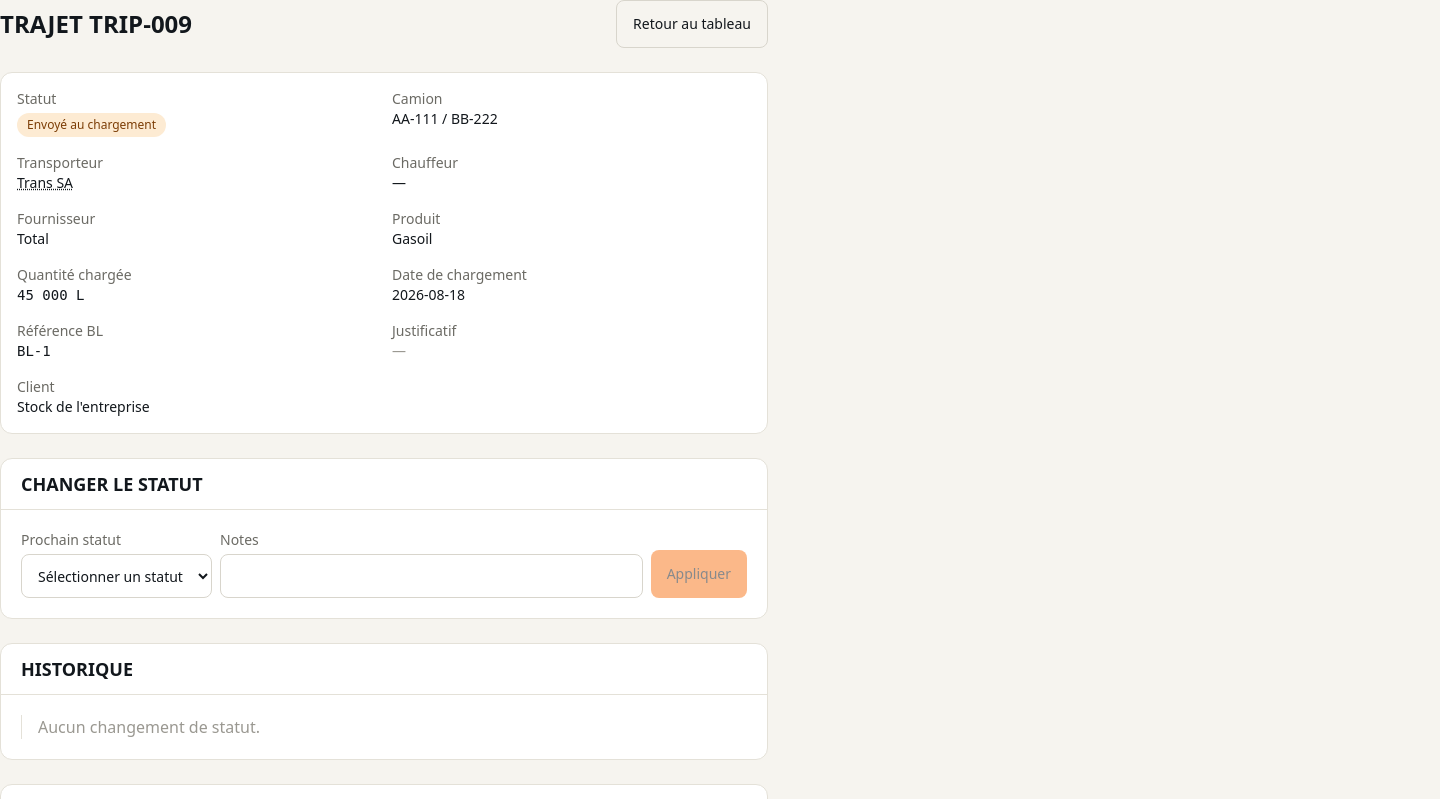
Test case: TripDetail expenses section › opens a prefilled per-litre loading expense popup after SENT_FOR_LOADING -> LOADING
Select "Chargement en cours" in the dropdown with id "next_status". click: (116, 576)
box: [21,554,212,598]
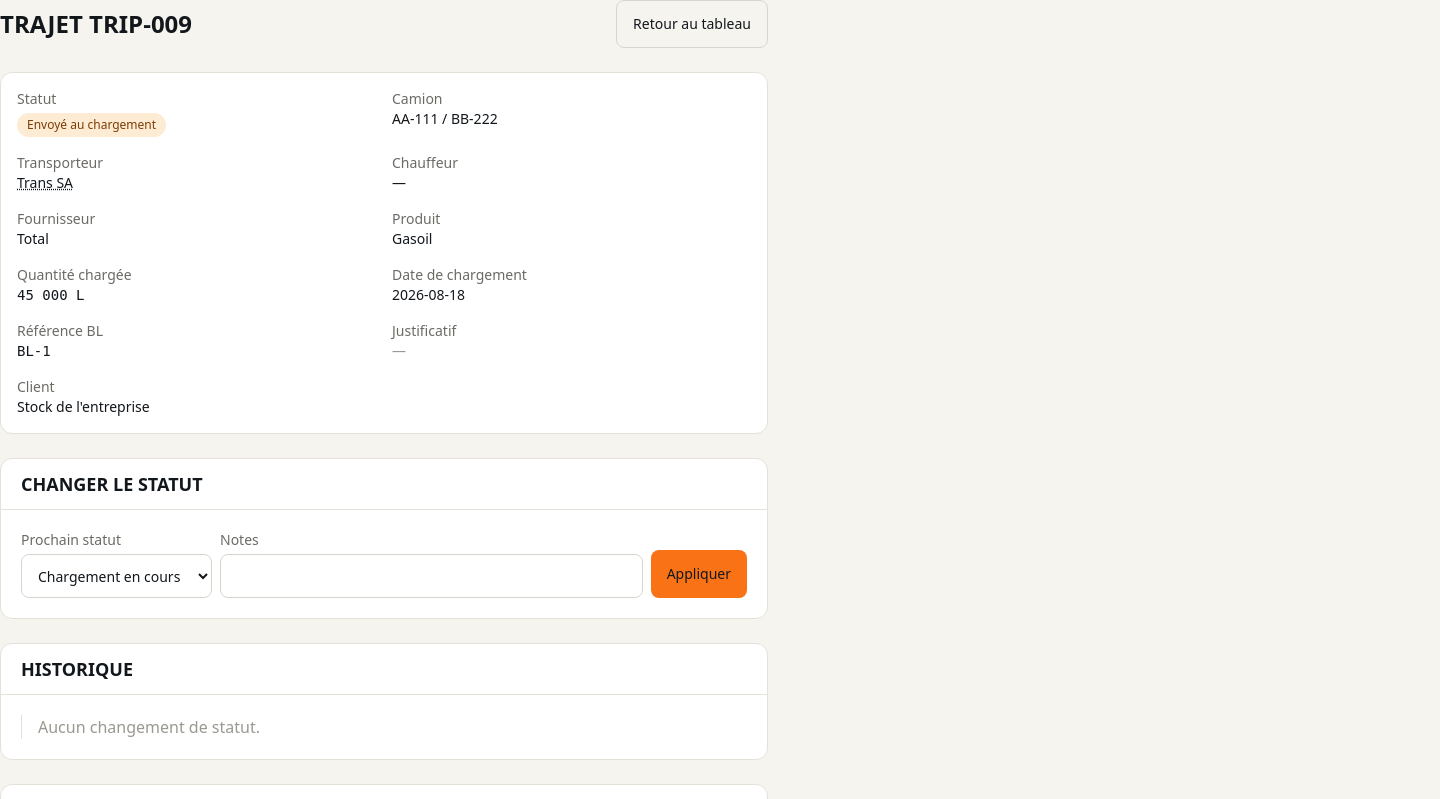
Click the button "Appliquer". click: (699, 574)
box: [651,550,747,598]
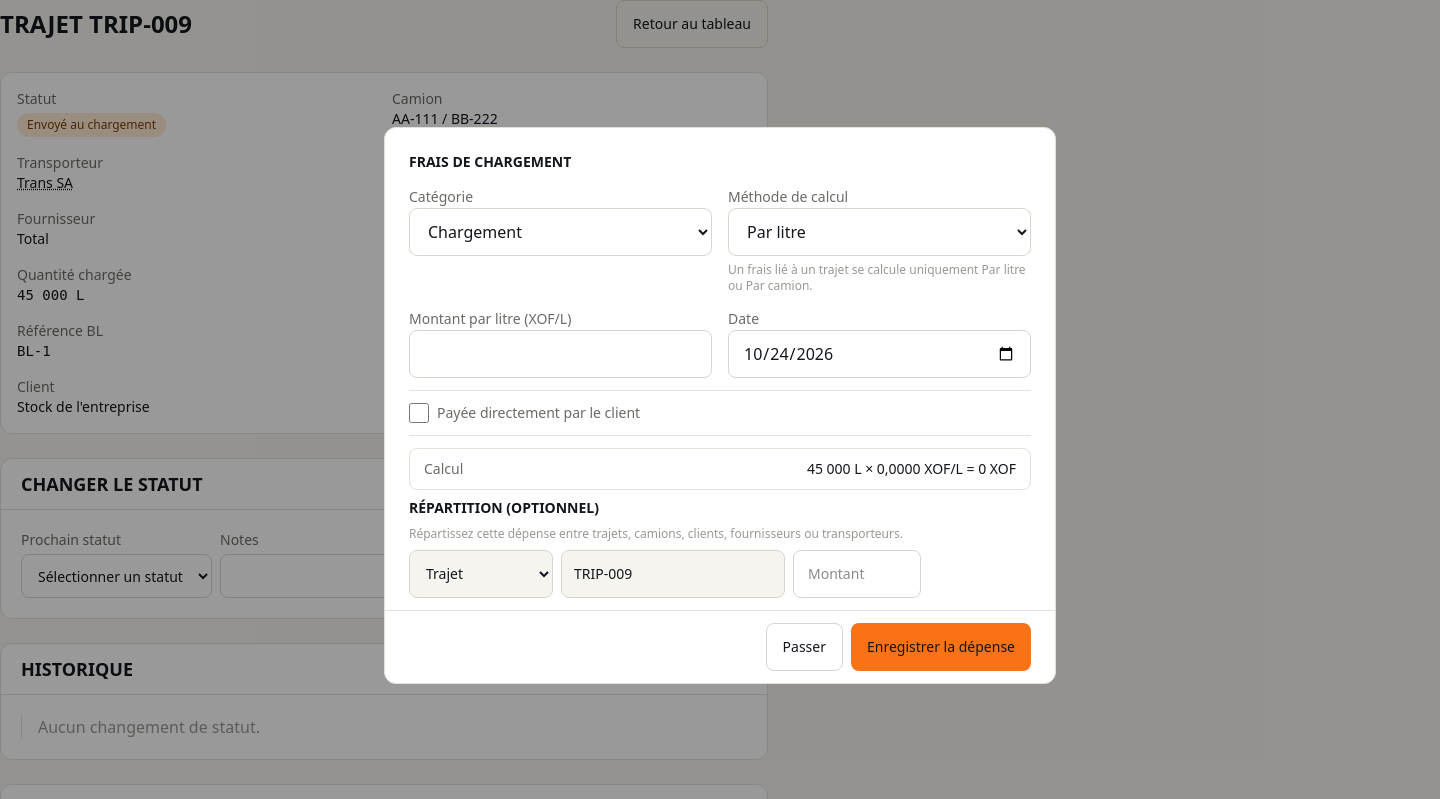
Expected: the text "TRIP-009" is shown, [0,7,192,40]
Expected: the dropdown with id "category" shows "Chargement", [409,208,712,256]
Expected: the dropdown with id "calculation_method" shows "Par litre", [728,208,1031,256]
